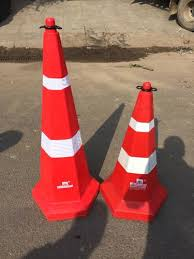cones: (32, 18, 99, 216), (102, 77, 172, 225)
